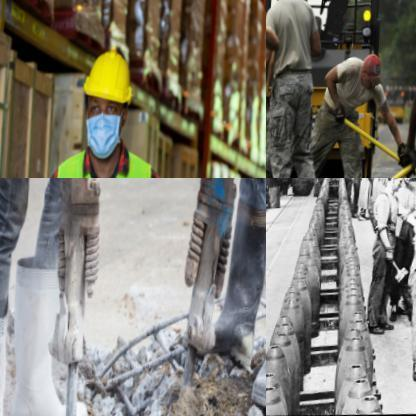helmet: (82, 48, 136, 116)
